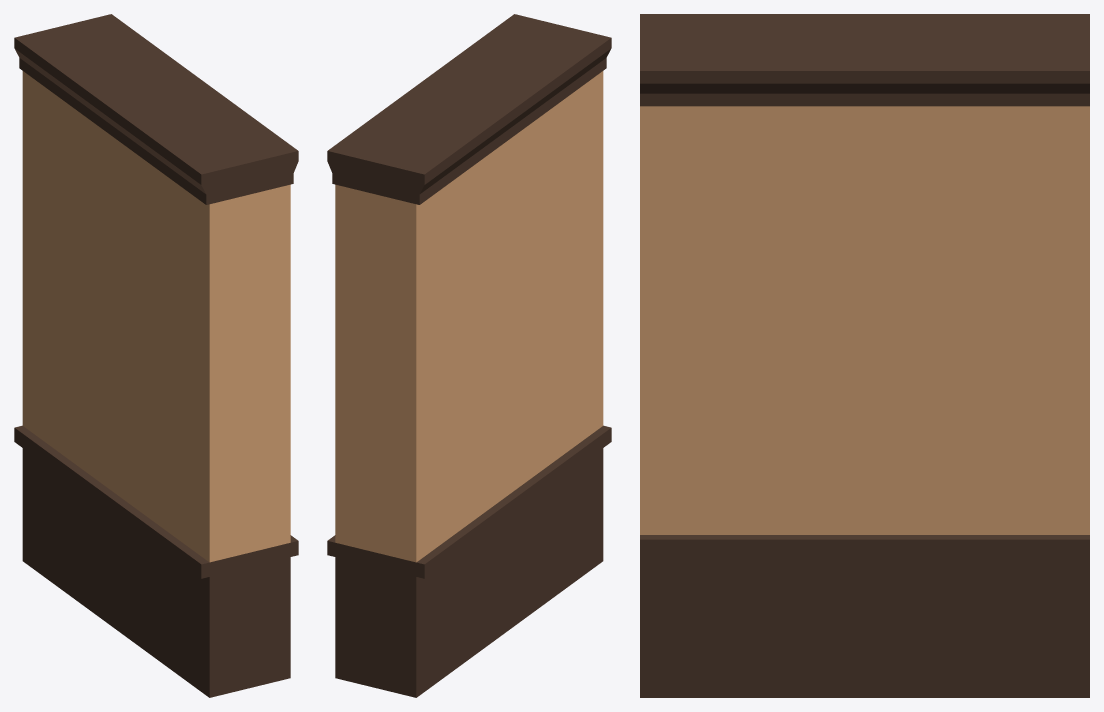
File: S_WallEmpty.fbx
3 renders of one model, left to right at view 1: azimuth 30°, elevation 25°; view 2: azimuth 150°, elevation 25°; view 3: azimuth 270°, elevation 25°, orthographic. The views are drawn at different scales.
Visible parts, largest first — view 1: S_WallEmpty; view 2: S_WallEmpty; view 3: S_WallEmpty.
Part boxes in pixels (left/top/right/bottom): S_WallEmpty: left=14, top=14, right=298, bottom=697; S_WallEmpty: left=327, top=14, right=611, bottom=697; S_WallEmpty: left=640, top=14, right=1089, bottom=697.
Bounding box in the file's own units: 59.94 × 310 × 200.
